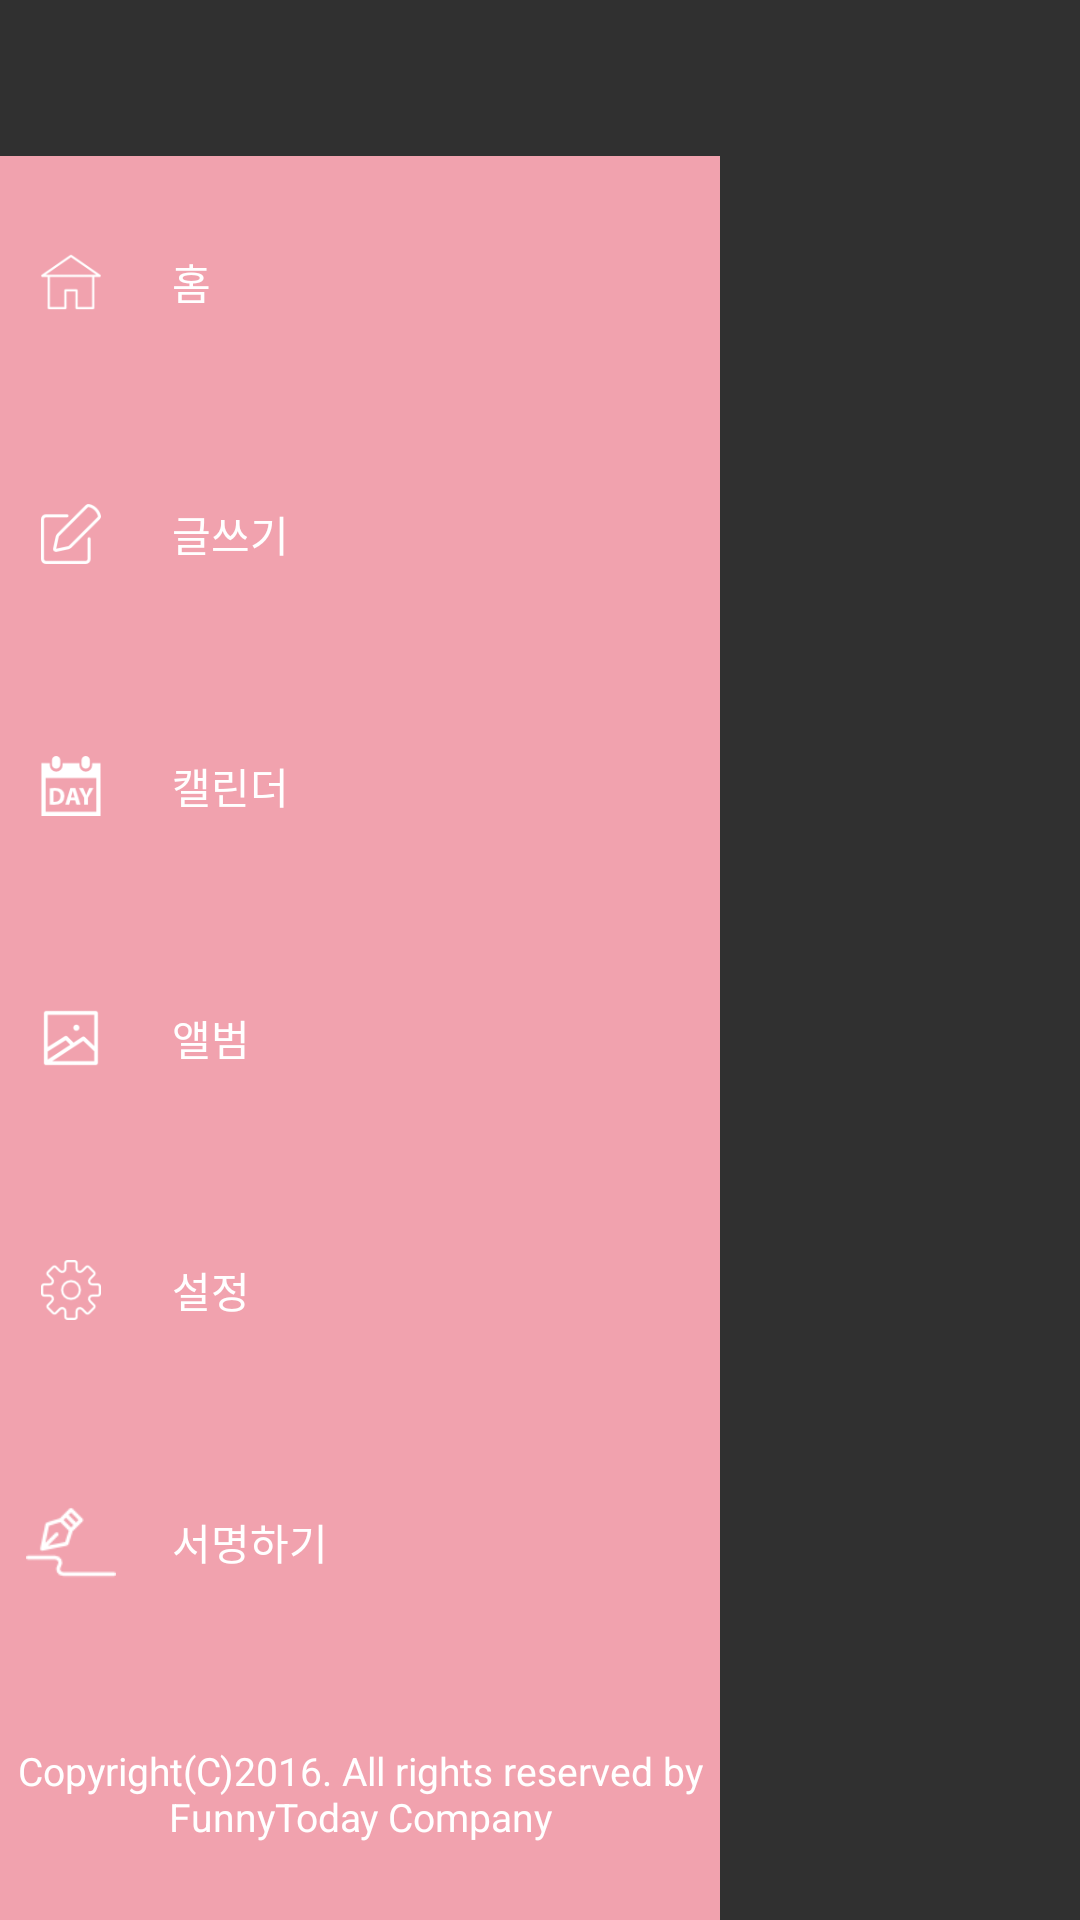

Named icons in this screenshot (1080x1920) and their centers, (x=x, y=y):
calendar: (x=71, y=786)
gallery: (x=71, y=1038)
home: (x=71, y=282)
setting: (x=71, y=1290)
signature: (x=71, y=1542)
write: (x=71, y=534)
